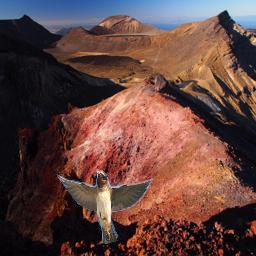Swallow: (57, 170, 154, 244)
